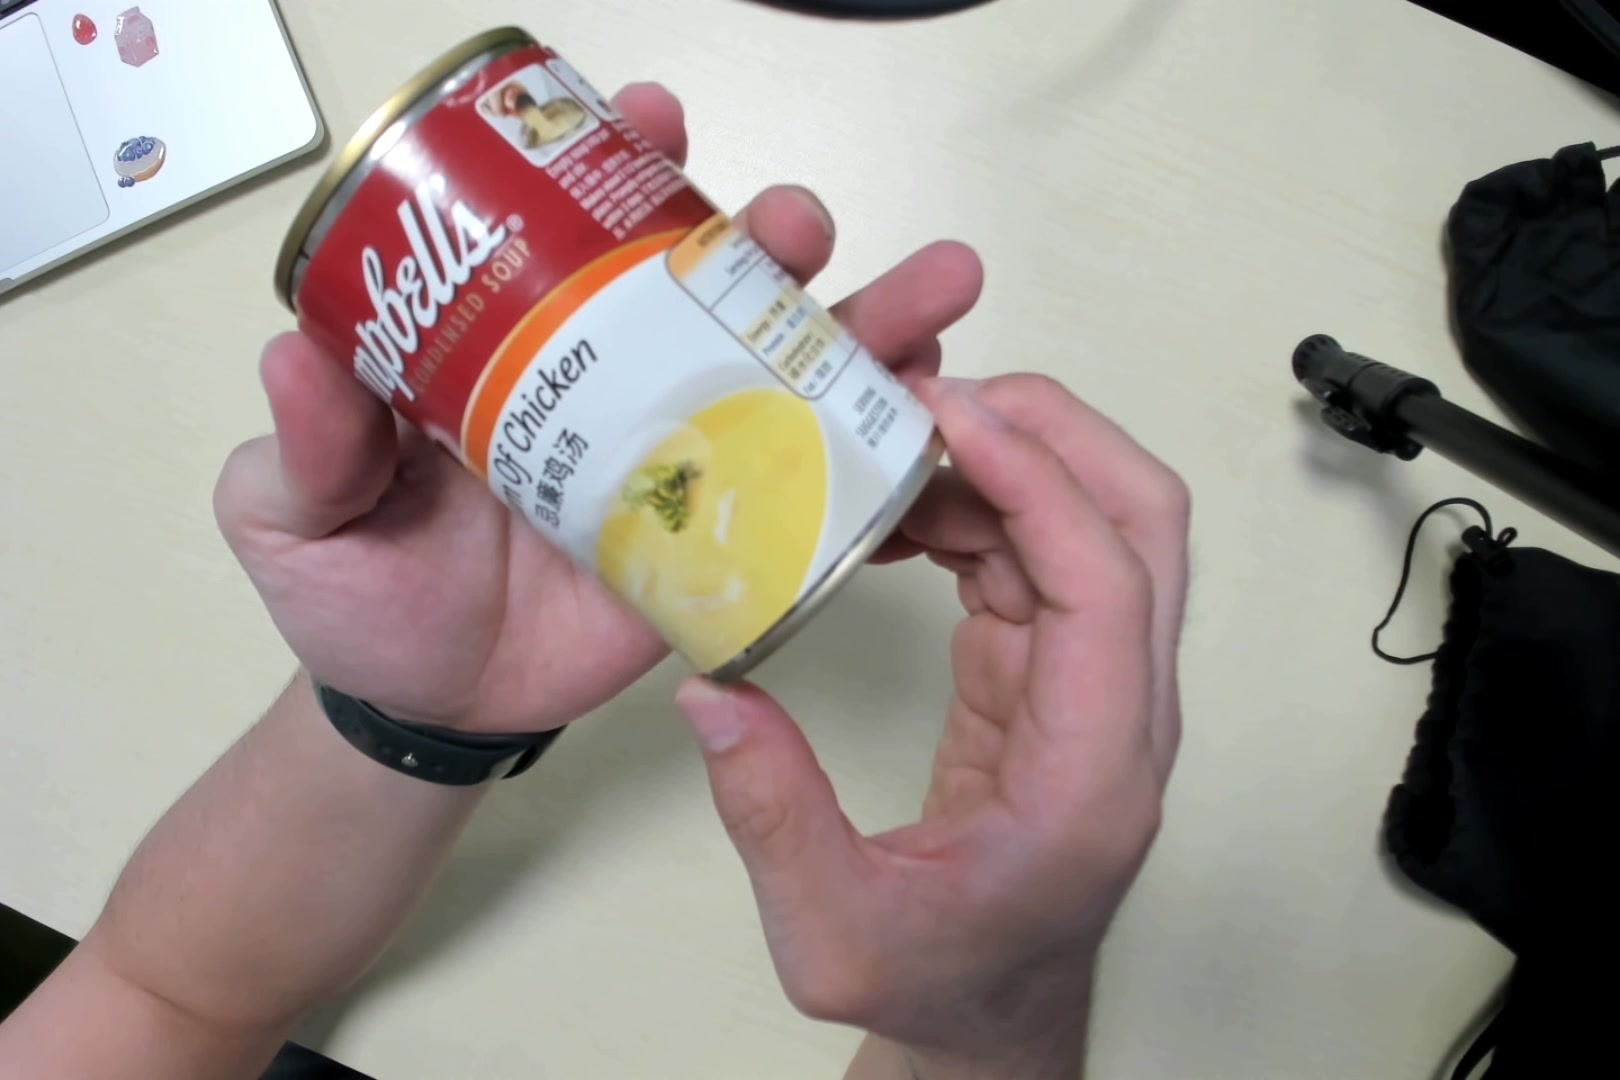CannedSoup_300-399g_Halal_NonHealthy: (289, 42, 947, 682)
